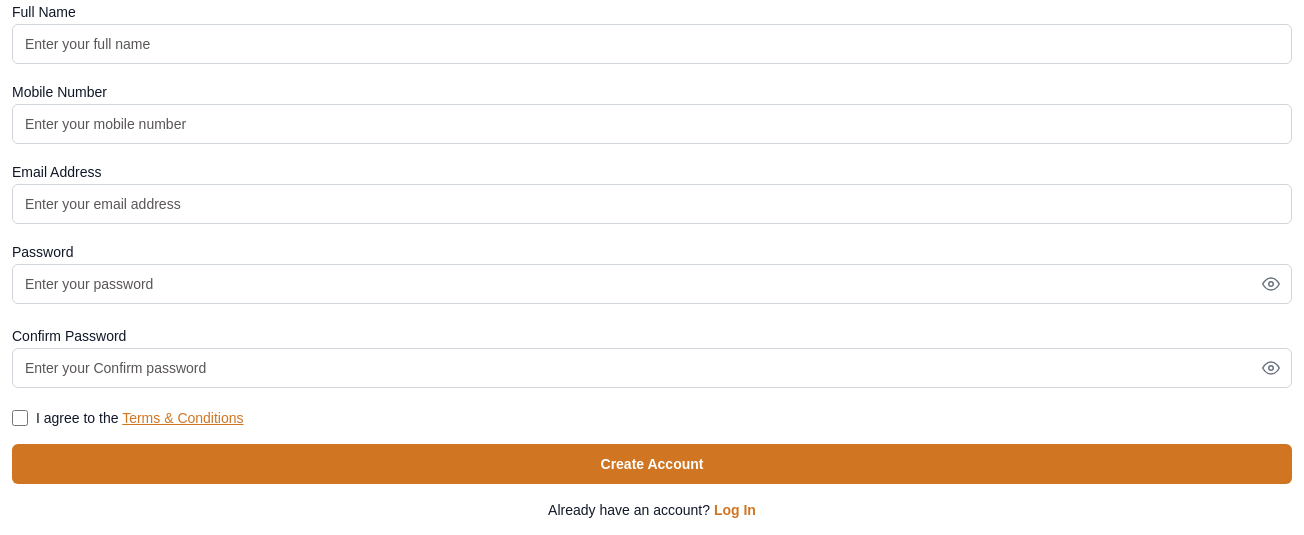
it: RegisterForm › sanitizes mobile input to digits only
Type "98ab12!!" into the field with placeholder "Enter your mobile number" at coordinates (652, 124), box 12,104 -> 1292,144
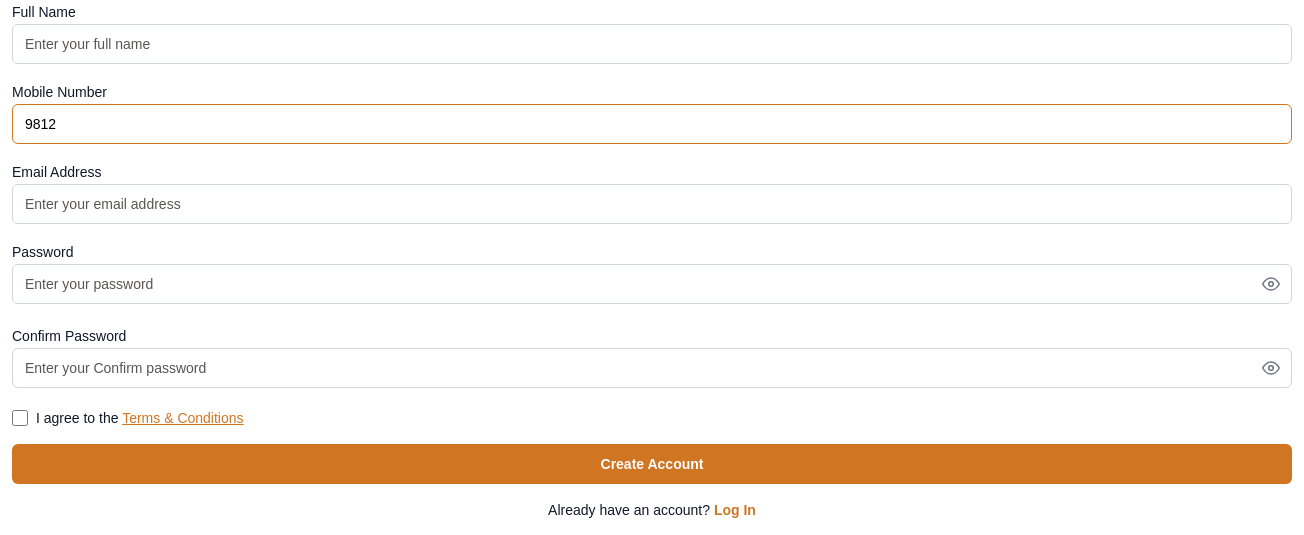
Result: the field with placeholder "Enter your mobile number" holds "9812" at 12,104 -> 1292,144
